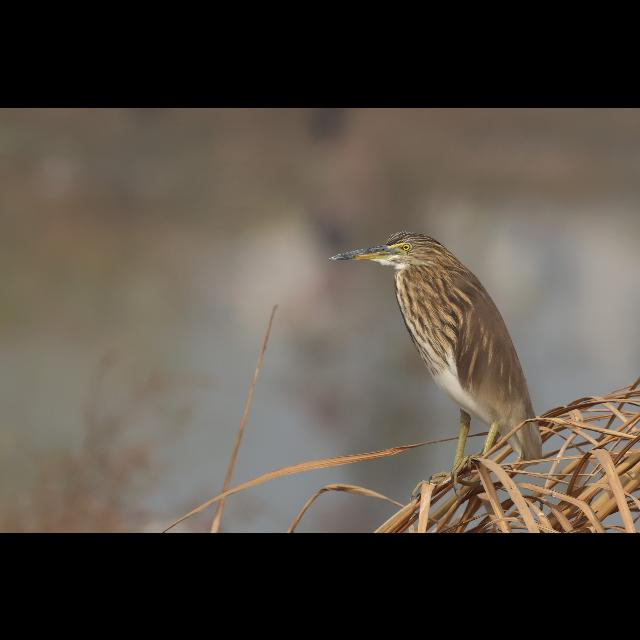heron: (325, 222, 553, 472)
